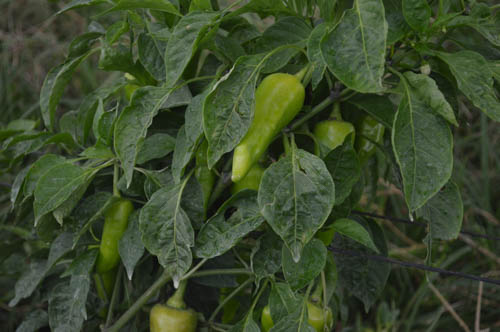ChiliPepper: (228, 75, 303, 182), (99, 201, 134, 279), (312, 118, 351, 152)
